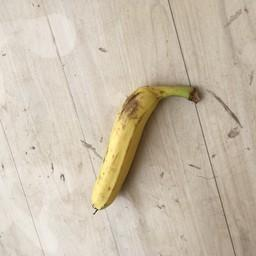Banana Ripe: (84, 64, 176, 230)
